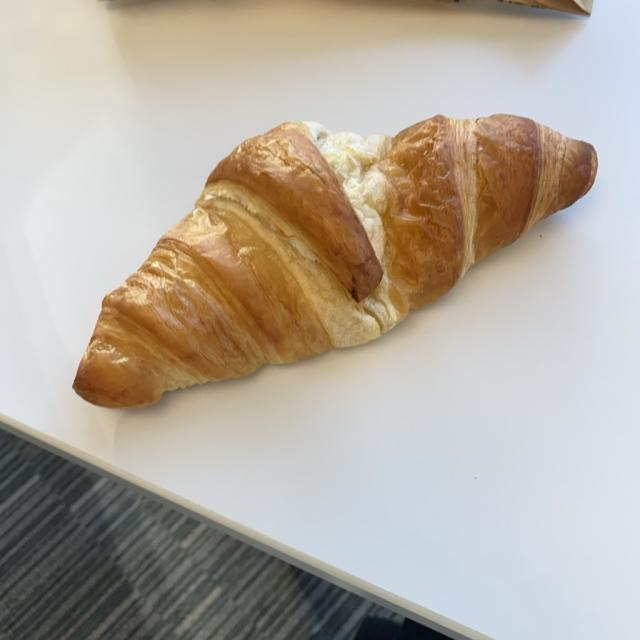croissant: (83, 117, 588, 406)
